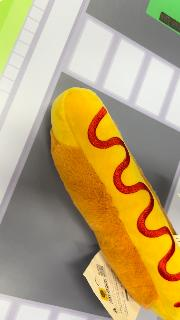hotdog: (50, 87, 180, 319)
